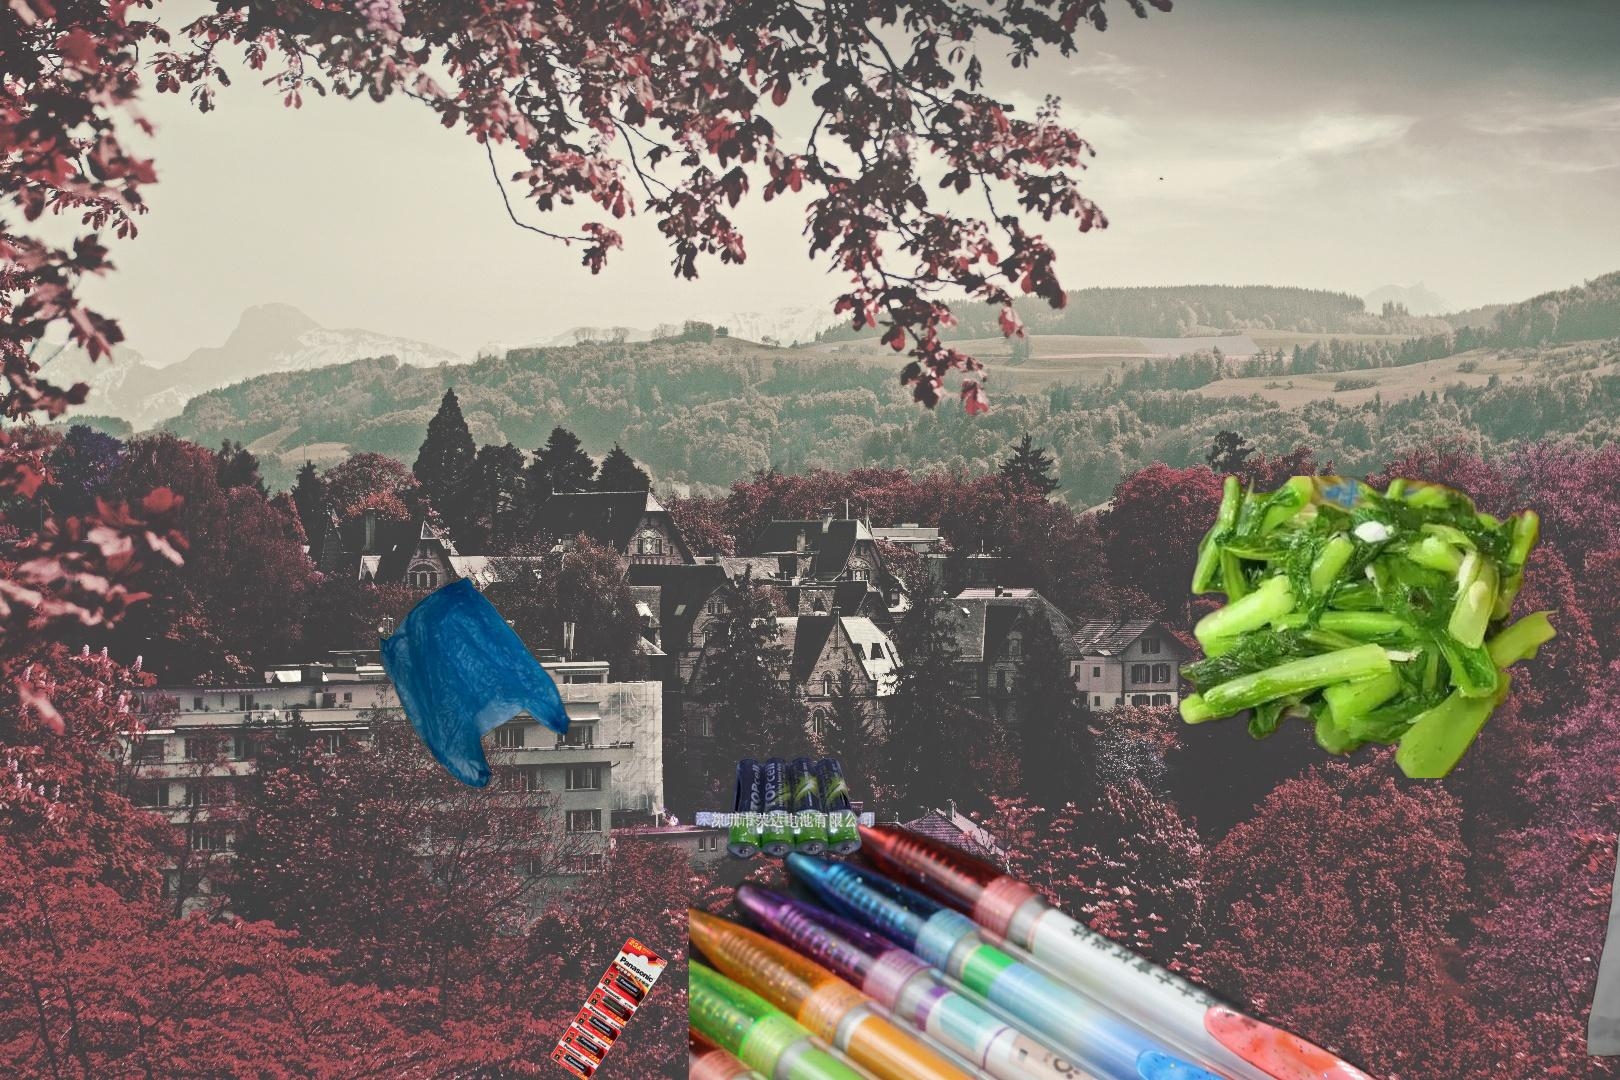battery: (689, 755, 877, 864), (547, 934, 669, 1080)
biological: (1170, 476, 1572, 777)
clothes: (1583, 695, 1620, 1067)
paper: (1571, 1016, 1620, 1080)
penholder: (689, 805, 1489, 1080)
plastic-bag: (378, 575, 574, 792)
